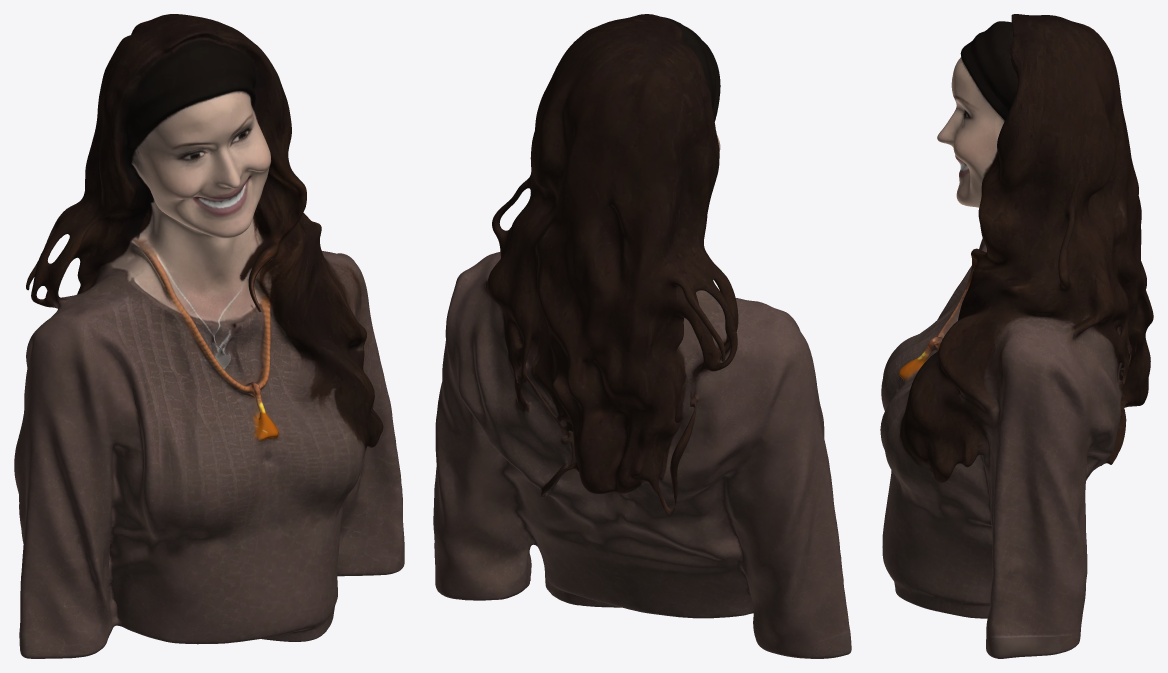
Rendered from Meshy_AI_Radiant_Smile_Portrait_optimized.glb.
3 renders of one model, left to right at view 1: azimuth 30°, elevation 25°; view 2: azimuth 150°, elevation 25°; view 3: azimuth 270°, elevation 25°, orthographic. The views are drawn at different scales.
Size of the model in its own units: 1.32 by 1.9 by 0.8561.
1 material, 1 textured.
